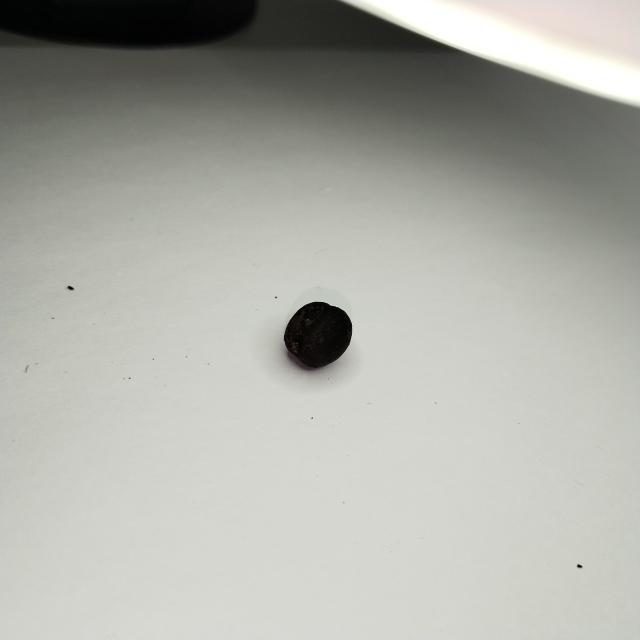Danado: (283, 302, 352, 369)
